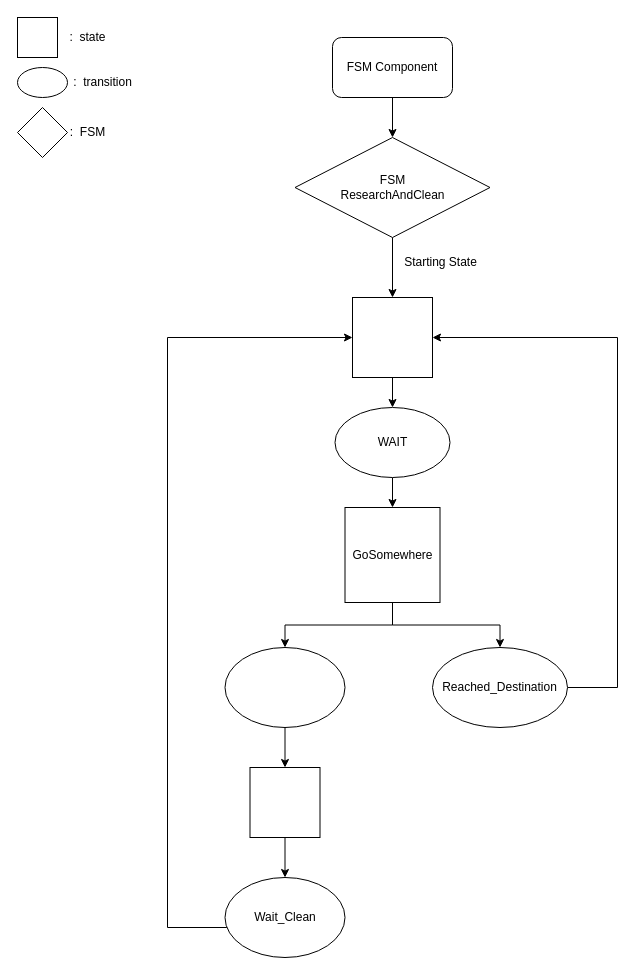
Some shapes in this 643 by 975 pixel diagram are drawn without their labels. The shapes that lost their labels are listed below. From the top down, each one's centre as x and y in pixels, then its label:
At point (392, 337): "IDLE".
At point (284, 687): "Find_Something".
At point (284, 802): "Clean".
